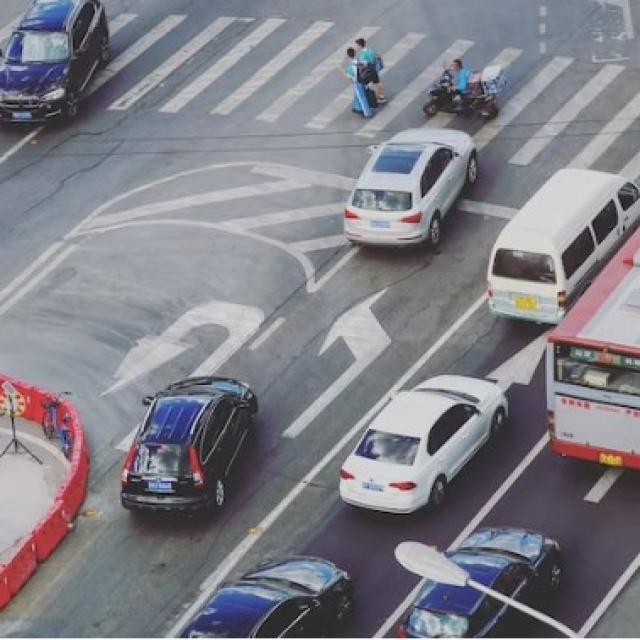bus: (548, 204, 640, 479)
car: (338, 372, 511, 518), (487, 165, 640, 327), (120, 374, 259, 518), (390, 525, 564, 638), (342, 124, 480, 252), (171, 555, 361, 638), (0, 0, 110, 125)
motorbike: (422, 57, 506, 121)
